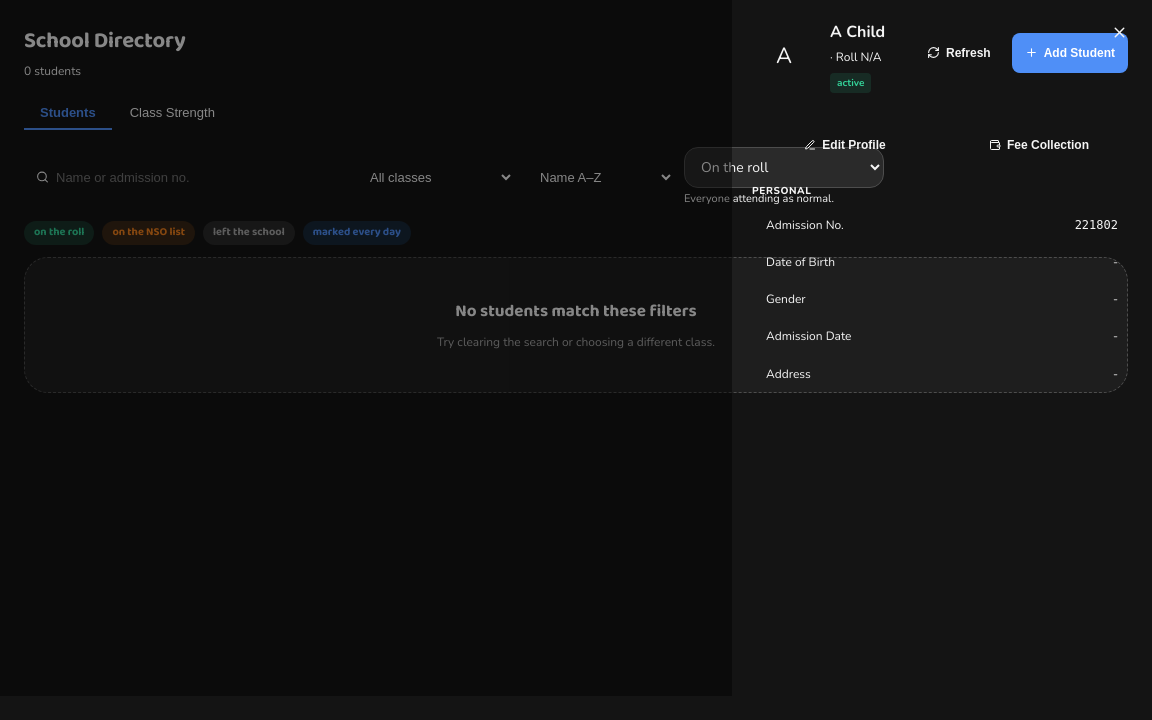
Test: a reload that fails after a successful load clears the old rows instead of leaving them next to the error
This screenshot has width=1152, height=720.
Click the button "Fee Collection".
click(1039, 145)  # box [946,125,1132,165]
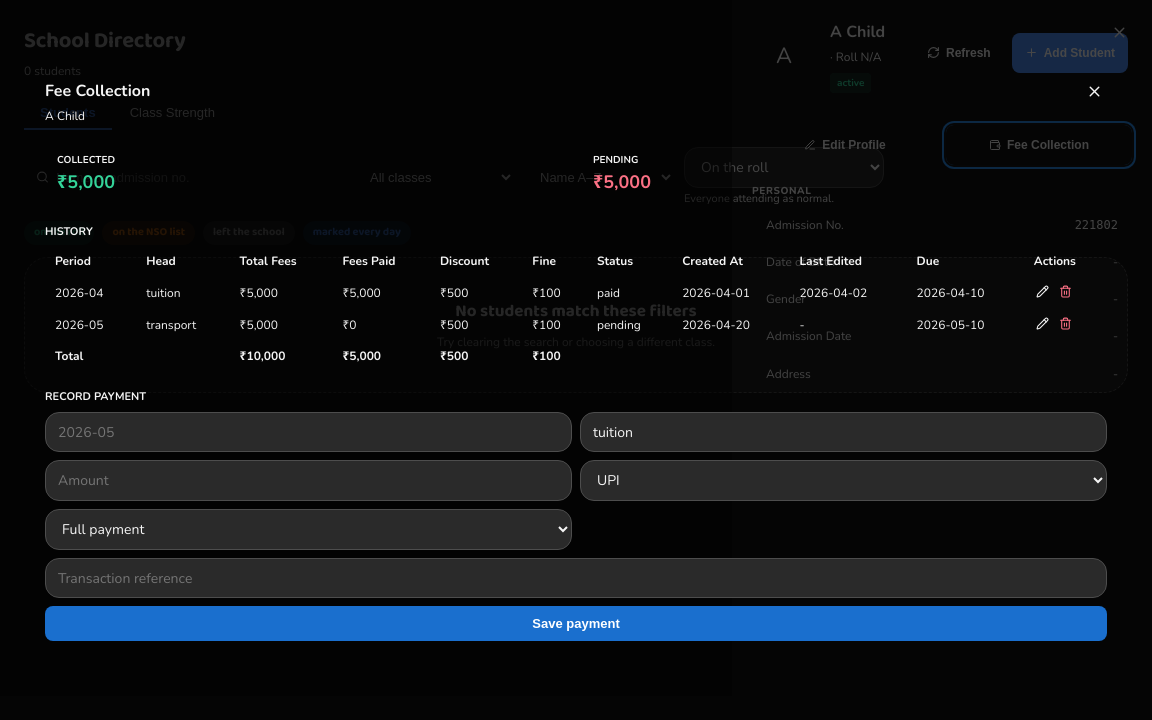
Expected: the element with test id "student-fee-panel" is shown
Expected: the row with test id "fee-history-total-row" is shown, [45,341,1107,372]
Click the button named "Delete 2026-05 transport".
click(1065, 325)  # box [1057,315,1074,335]
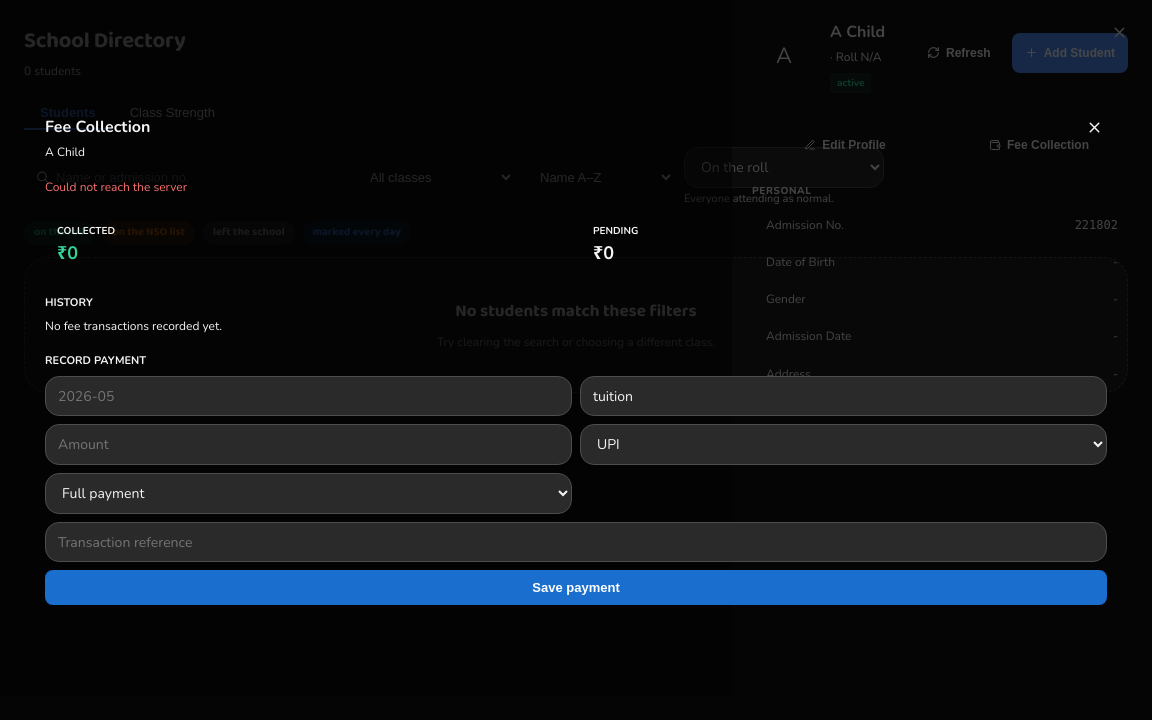
Expected: the message reads "Could not reach the server", [45,179,187,195]
Expected: the row with test id "fee-history-total-row" is gone
Expected: the text "2026-04" is gone
